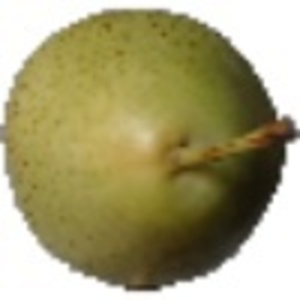pera: (1, 6, 300, 295)
